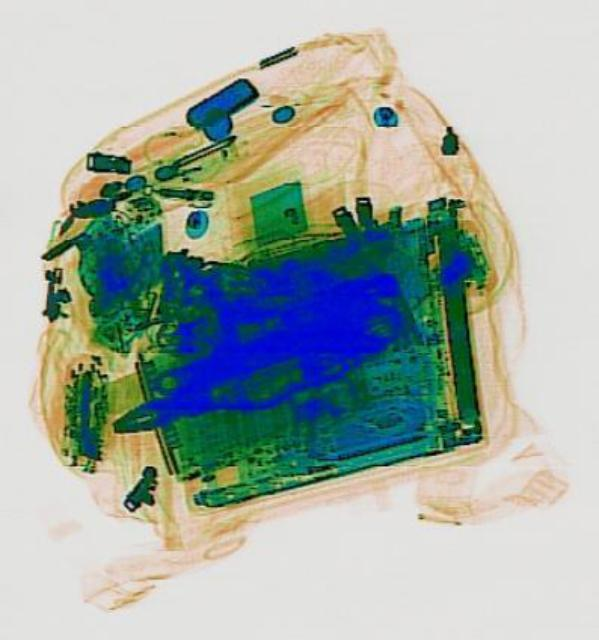Pliers: (98, 320, 307, 460)
